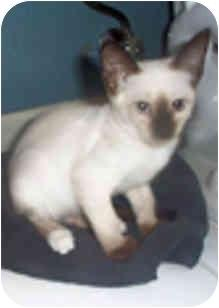siamese: (95, 23, 219, 154)
